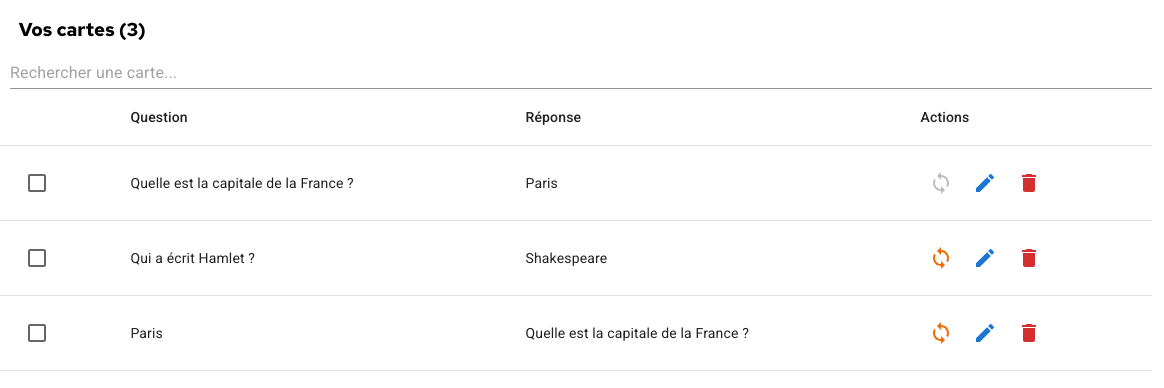
Test case: UserCards › Search Functionality › should filter cards based on question
Note: Simulate search filtering by changing the input value
Type "Hamlet" into the field with placeholder "Rechercher une carte..." at (581, 75), box left=10, top=60, right=1152, bottom=89
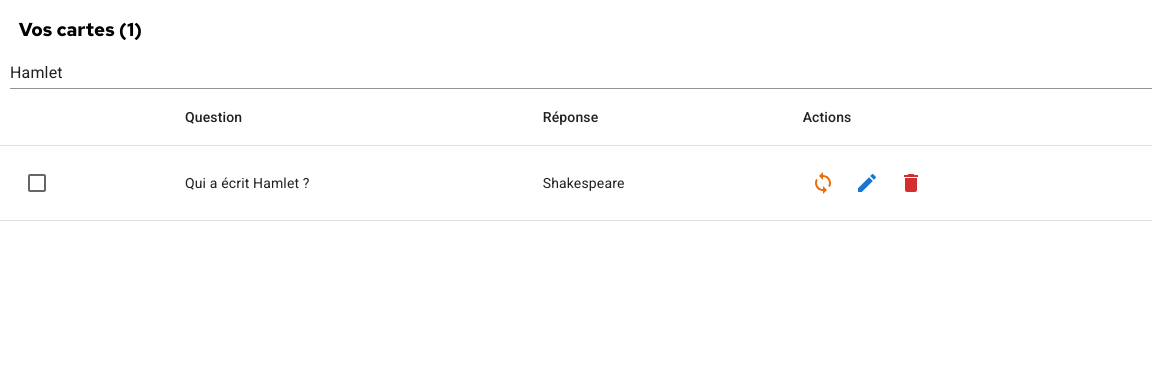
Expected: the text "Qui a écrit Hamlet ?" is shown, left=169, top=146, right=527, bottom=221
Now the heading "Vos cartes (1)" is shown, box left=19, top=17, right=142, bottom=42
Now the text "Quelle est la capitale de la France ?" is gone
